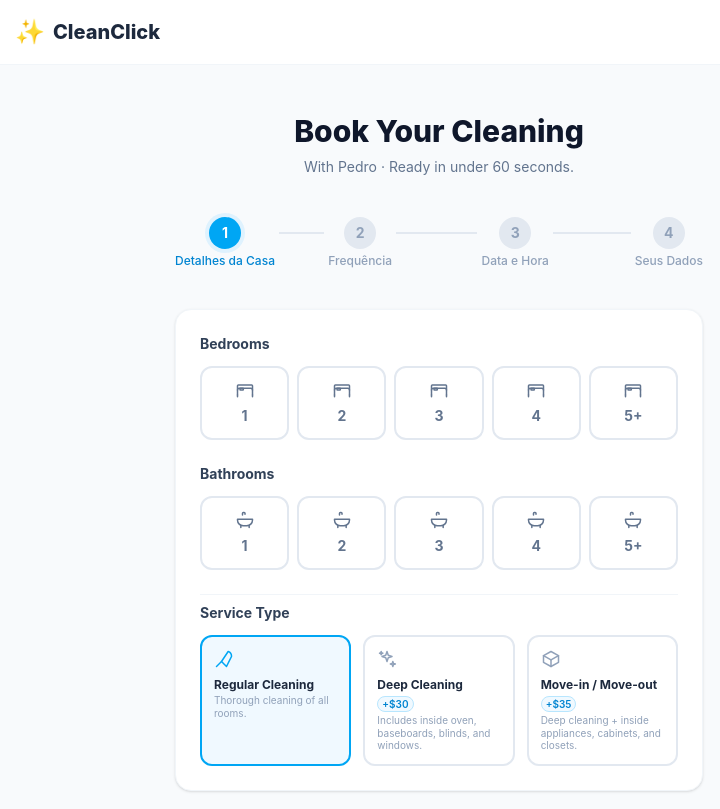
Test case: Step 0 — House Details (Stitch similarity) › botão Continue navega para Step 1 (Frequency)
What coordinates should you click on to do the following:
click the button "2" below "Bedrooms"
I would click on:
 (342, 403)
Its box is [297, 366, 386, 440].
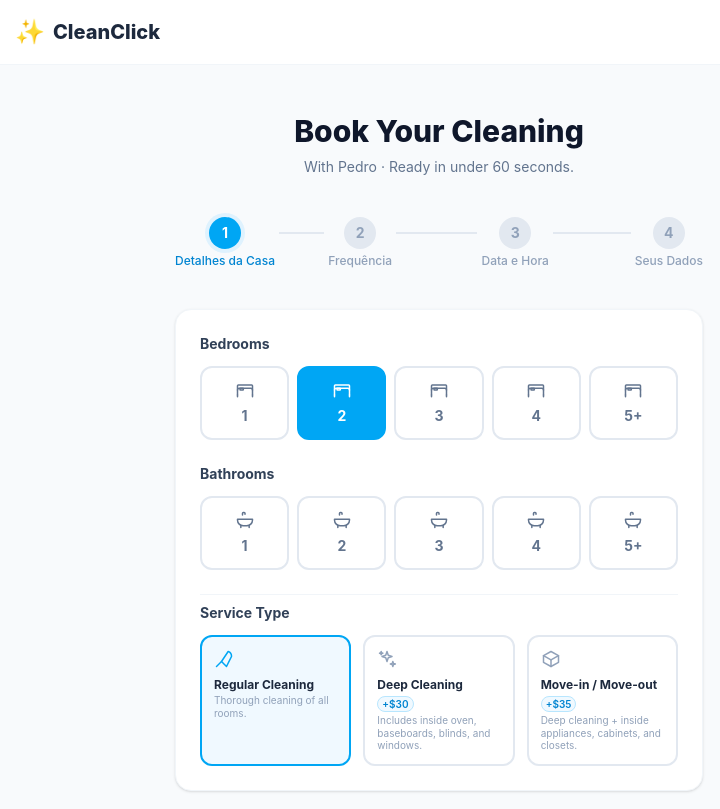
What coordinates should you click on to do the following:
click the button "1" below "Bathrooms"
I would click on:
 (245, 533)
Its box is [200, 496, 289, 570].
(page scrolled)
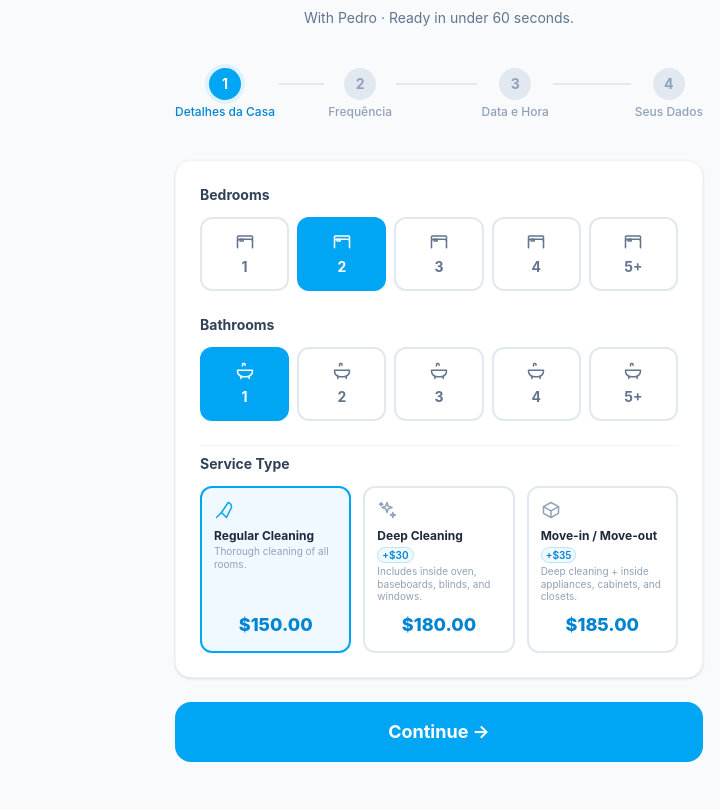
What coordinates should you click on to do the following:
click the button "Continue →"
I would click on:
 (439, 732)
Its box is [175, 702, 703, 762].
(page scrolled)
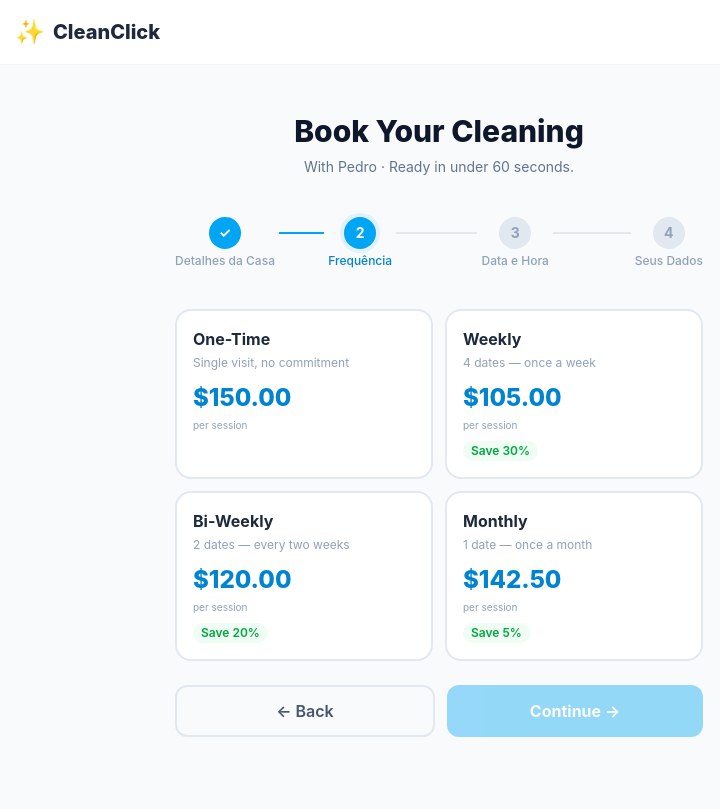
Expected: the text "One-Time" is shown, [193, 327, 270, 351]
Expected: the text "Weekly" is shown, [463, 327, 521, 351]
